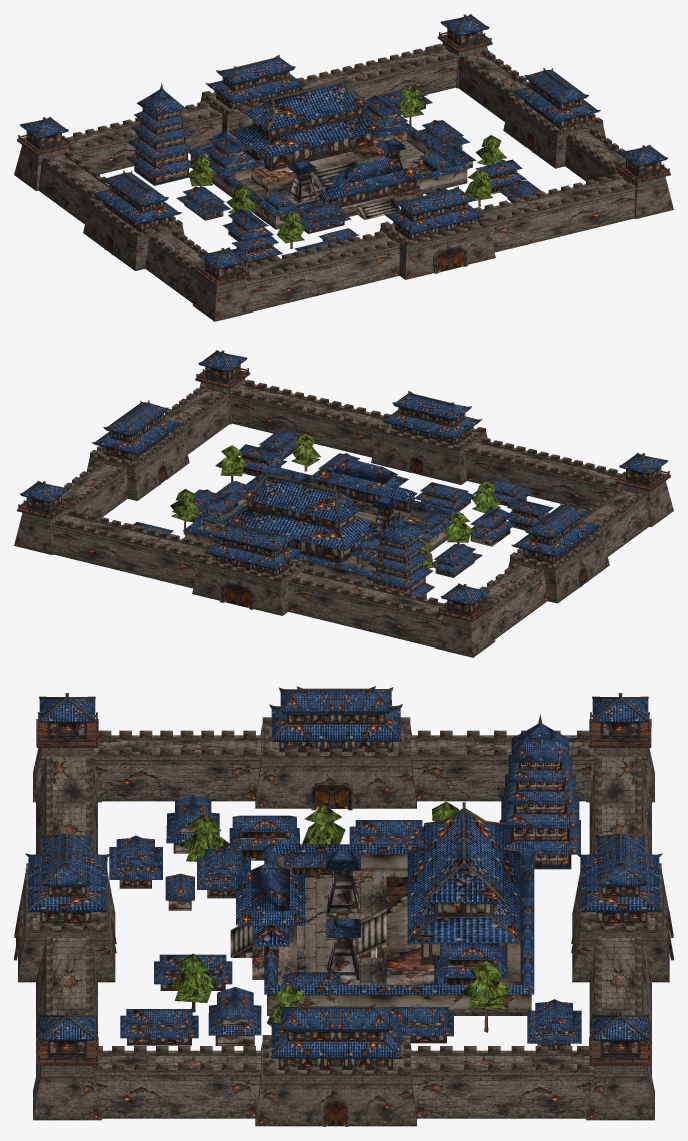
The model's file is CASTLE_CHAY_blue.fbx.
The picture shows the model from 3 angles, top to bottom: view 1: azimuth 30°, elevation 25°; view 2: azimuth 150°, elevation 25°; view 3: azimuth 270°, elevation 25°; orthographic projection. The views are drawn at different scales.
Visible parts, largest first — view 1: polySurface22449_lambert26_0.007; view 2: polySurface22449_lambert26_0.007; view 3: polySurface22449_lambert26_0.007.
Boxes of the visible parts, x1,y1,x2,y2 form: polySurface22449_lambert26_0.007: (14,14,673,321); polySurface22449_lambert26_0.007: (14,350,673,657); polySurface22449_lambert26_0.007: (14,686,673,1126).
Size of the model in its own units: 39296 by 7353 by 30428.
